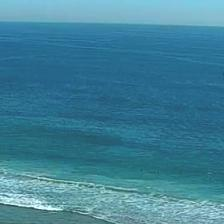surfer: (148, 170, 158, 174), (179, 170, 183, 174), (140, 168, 144, 171), (209, 178, 212, 181), (132, 166, 136, 168), (156, 172, 159, 174)
